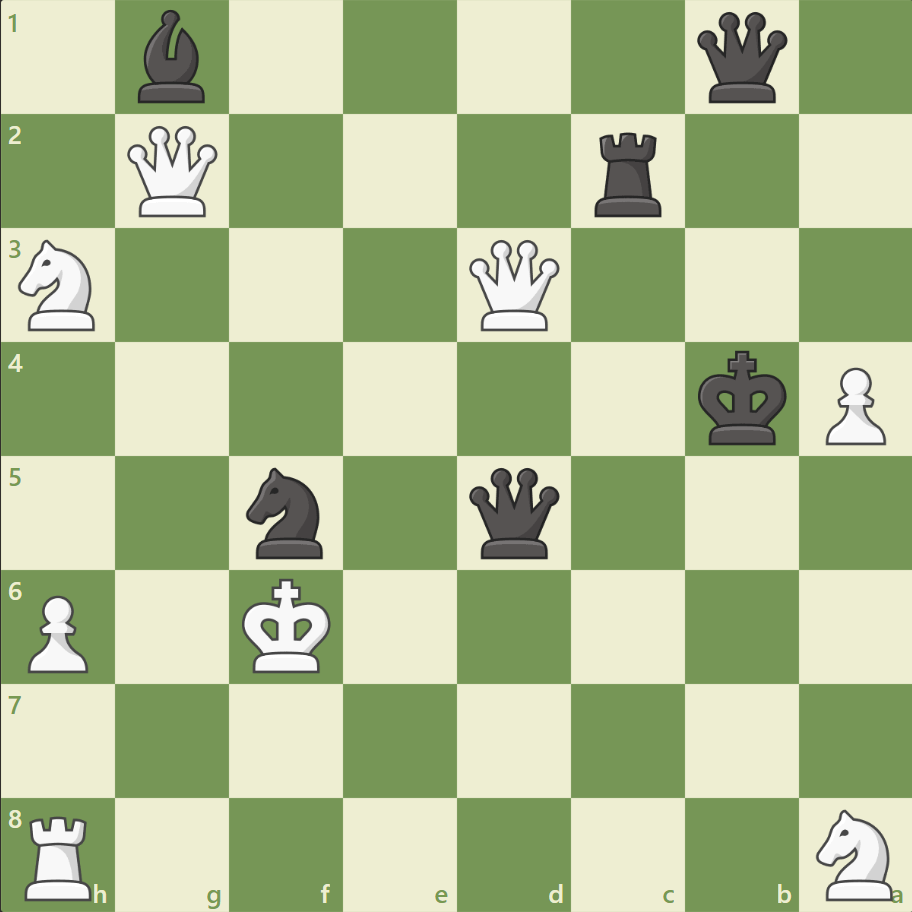K: (238, 571, 338, 679)
N: (11, 234, 108, 337), (806, 802, 903, 904)
P: (20, 586, 95, 677), (815, 359, 889, 450)
Q: (124, 122, 223, 222), (464, 236, 563, 335)
R: (19, 806, 102, 904)
b: (131, 6, 215, 109)
k: (692, 344, 792, 452)
n: (238, 461, 335, 564)
q: (464, 463, 563, 562), (691, 9, 790, 108)
r: (587, 125, 670, 222)
